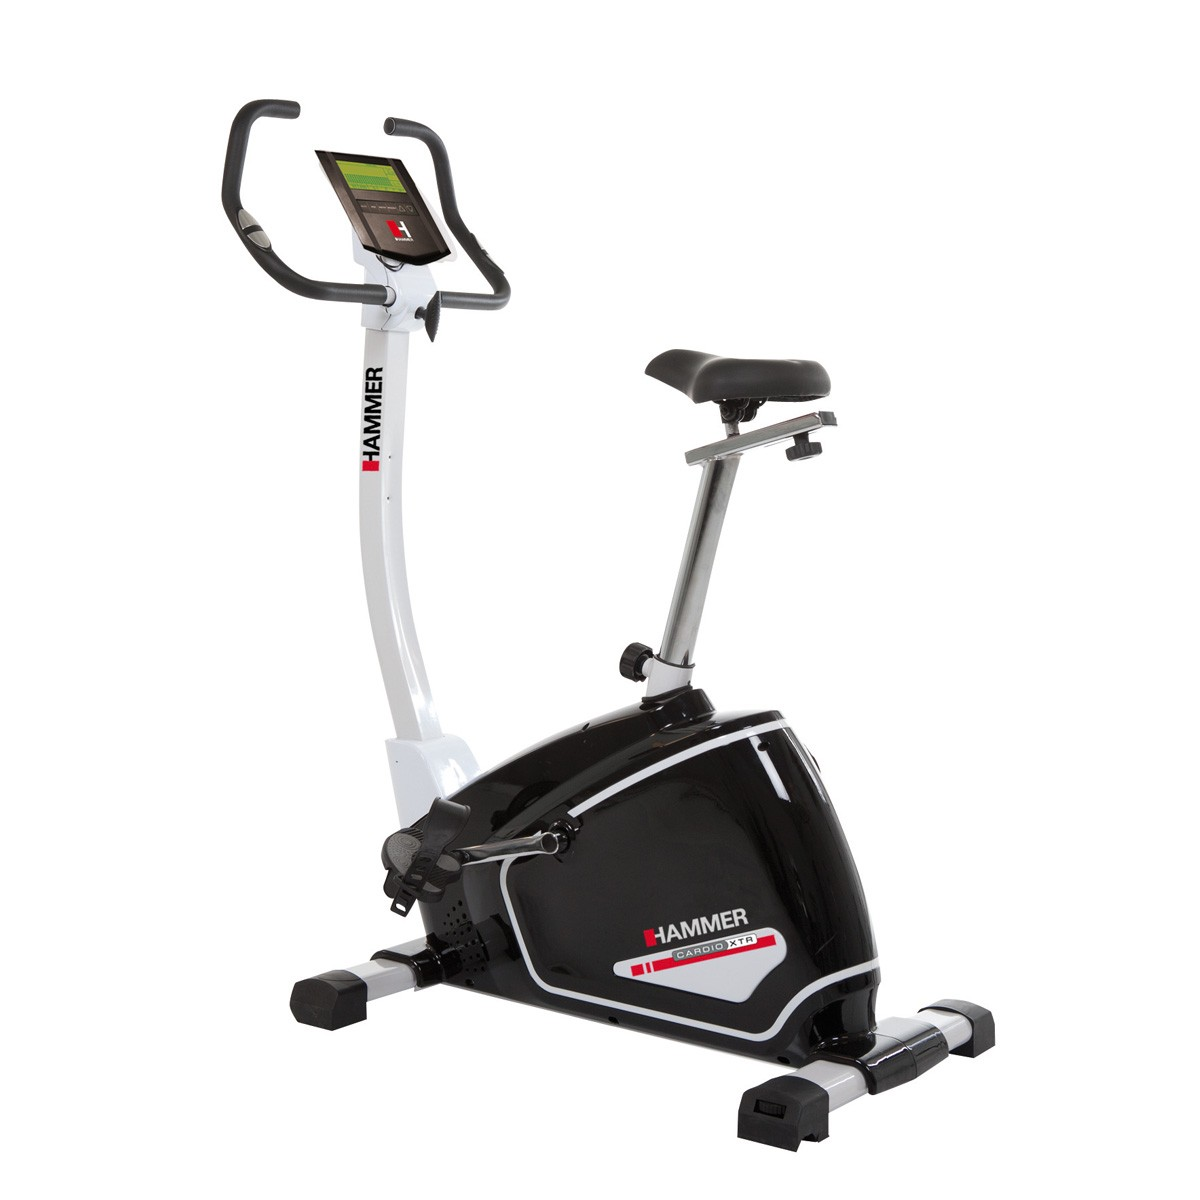gym_bike: (192, 90, 1012, 1167)
